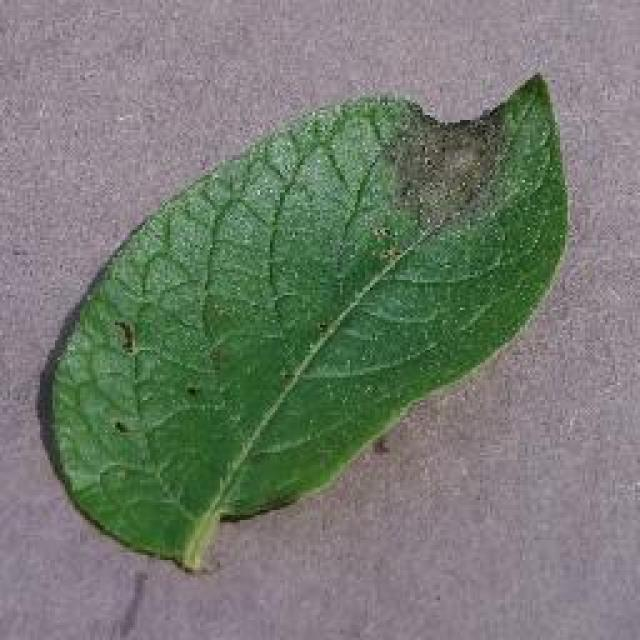late_blight: (32, 67, 572, 575)
